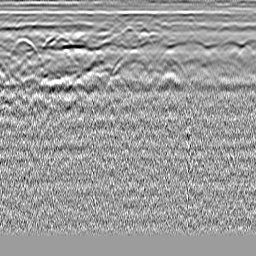cavity: (119, 26, 139, 41)
